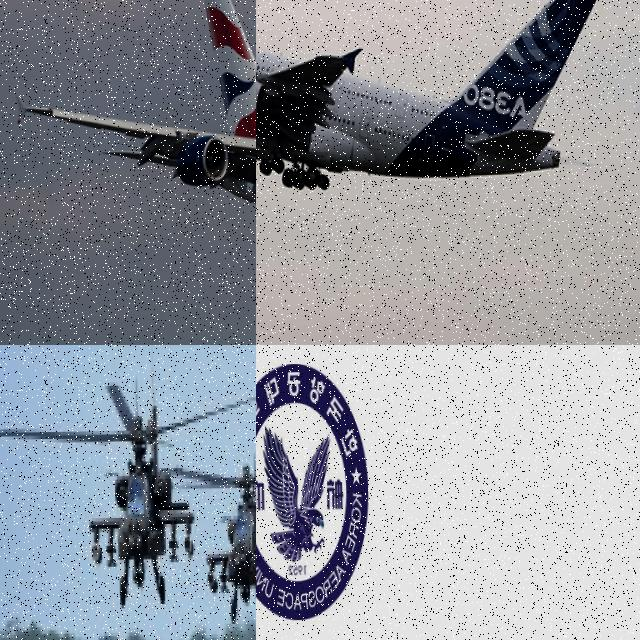A380: (256, 0, 605, 191), (9, 0, 256, 268)
Apache: (0, 372, 256, 606), (170, 437, 256, 628)
KAU_Marker: (256, 363, 368, 619)
